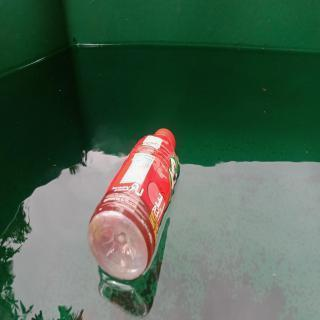bottle: (85, 124, 180, 283)
